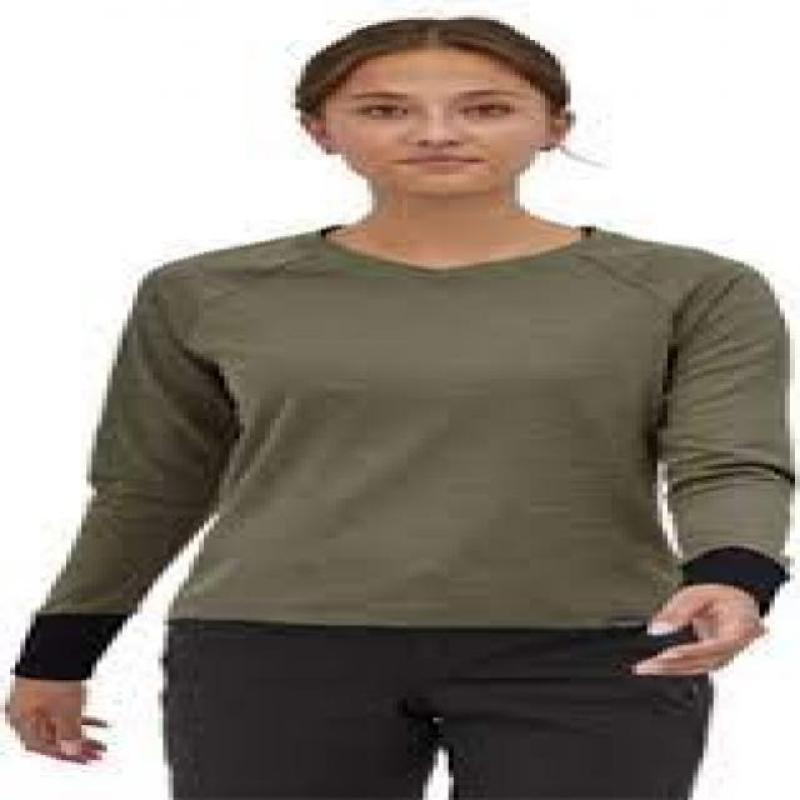long sleeve shirt: (12, 224, 794, 689)
trousers: (157, 614, 713, 800)
